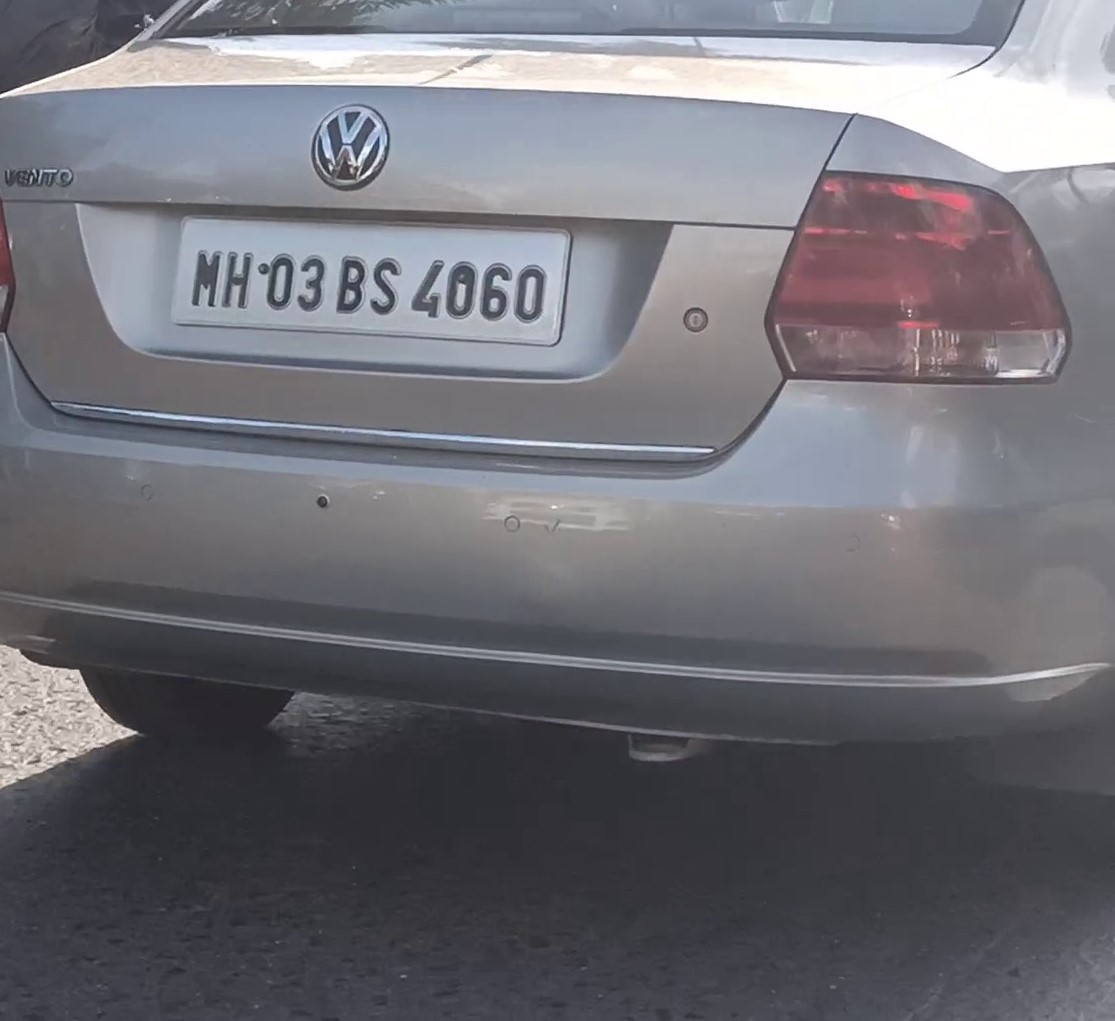MH03BS4060: (169, 216, 574, 346)
